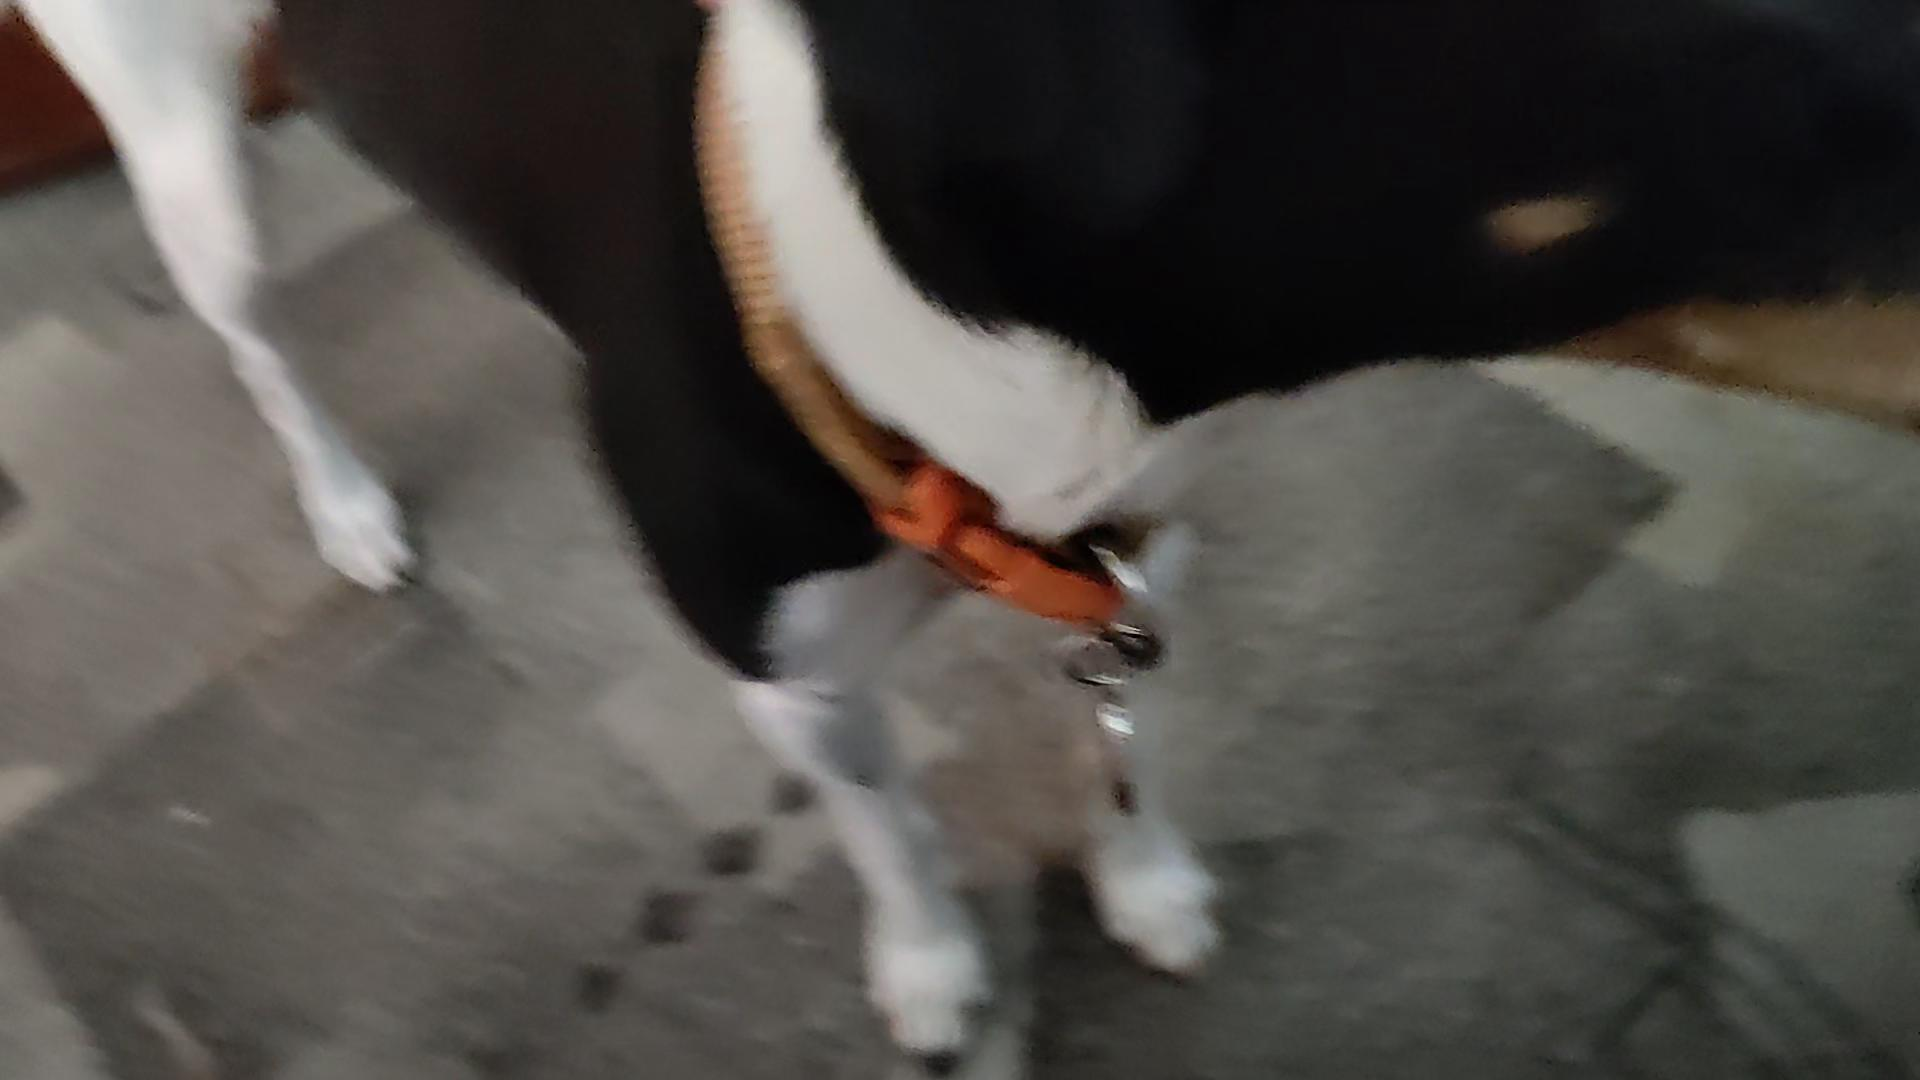Dog: (9, 0, 1919, 1080)
